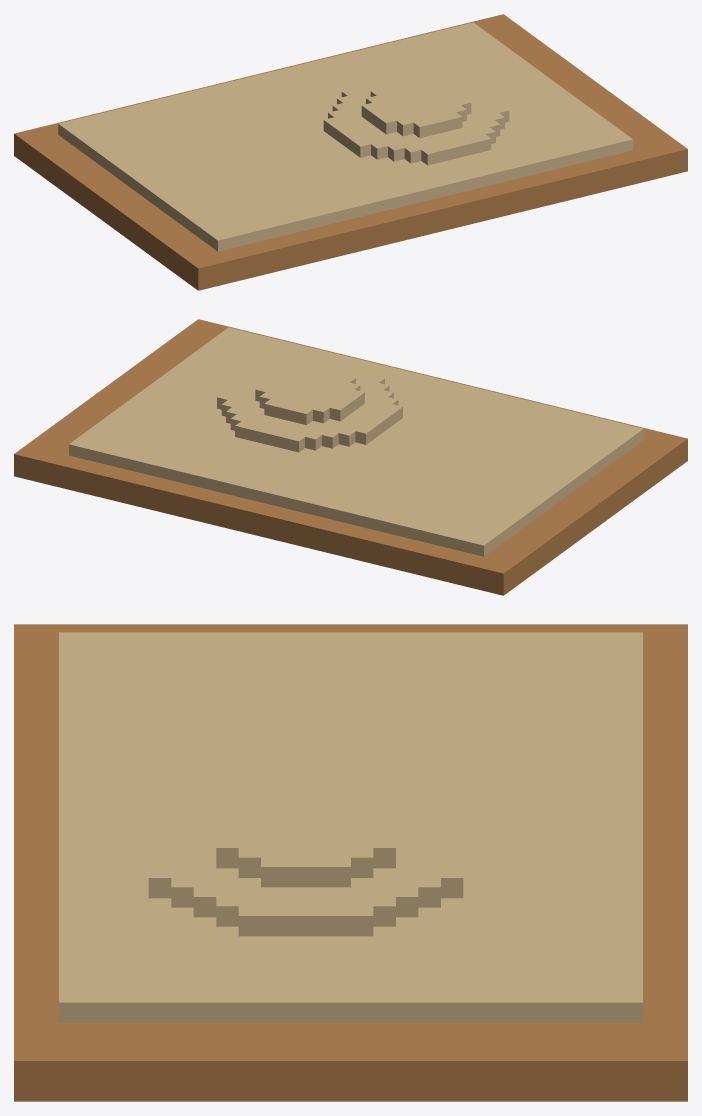
The model's file is leather_filing.glb.
3 renders of one model, top to bottom at view 1: azimuth 30°, elevation 25°; view 2: azimuth 150°, elevation 25°; view 3: azimuth 270°, elevation 25°, orthographic. The views are drawn at different scales.
Visible parts, largest first — view 1: leather_filing:compound; view 2: leather_filing:compound; view 3: leather_filing:compound.
Boxes of the visible parts, <box> form: leather_filing:compound: <box>14,14,687,290</box>; leather_filing:compound: <box>14,319,687,595</box>; leather_filing:compound: <box>14,624,687,1101</box>.
Size of the model in its own units: 0.092 by 0.01 by 0.06.
